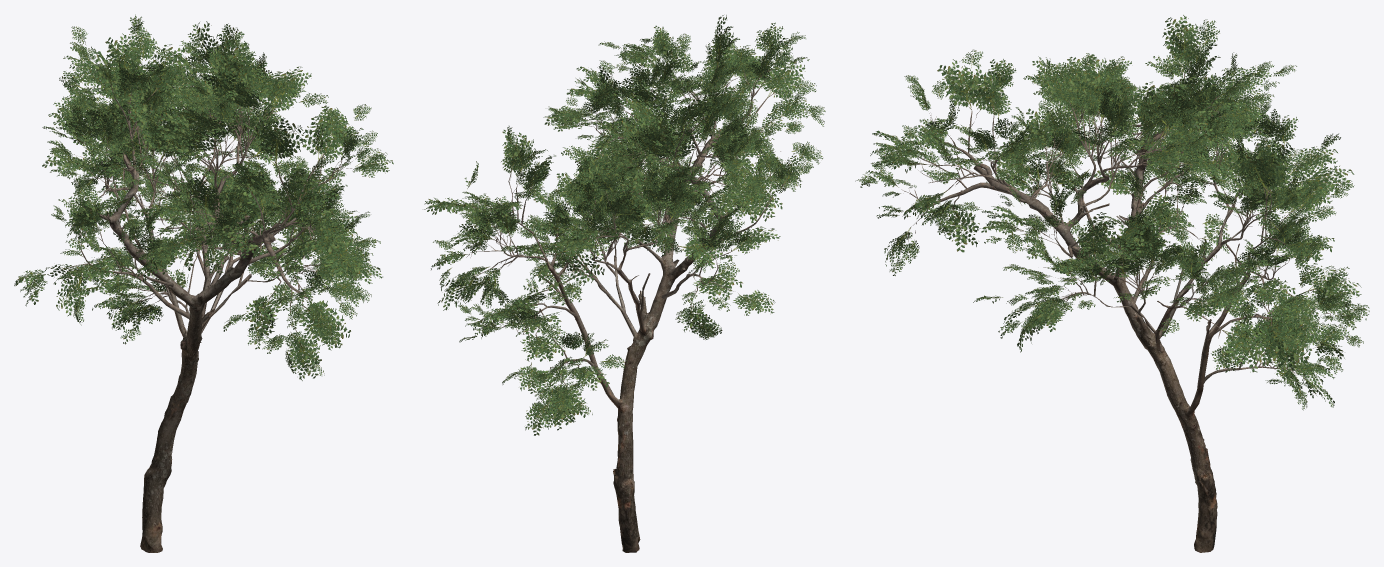
The model's file is tree_small_02.glb.
3 renders of one model, left to right at view 1: azimuth 30°, elevation 25°; view 2: azimuth 150°, elevation 25°; view 3: azimuth 270°, elevation 25°, orthographic. The views are drawn at different scales.
Visible parts, largest first — view 1: tree_small_02_LOD0; view 2: tree_small_02_LOD0; view 3: tree_small_02_LOD0.
Boxes of the visible parts, <box> form: tree_small_02_LOD0: <box>14,14,393,552</box>; tree_small_02_LOD0: <box>424,15,825,552</box>; tree_small_02_LOD0: <box>855,15,1369,552</box>.
Size of the model in its own units: 2.93 by 4.56 by 4.3.
3 materials, 3 textured.
